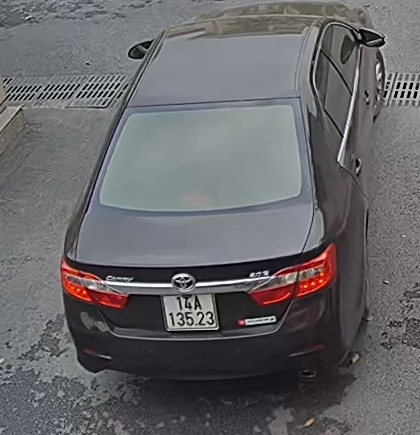vehicle plate: (154, 288, 223, 334)
